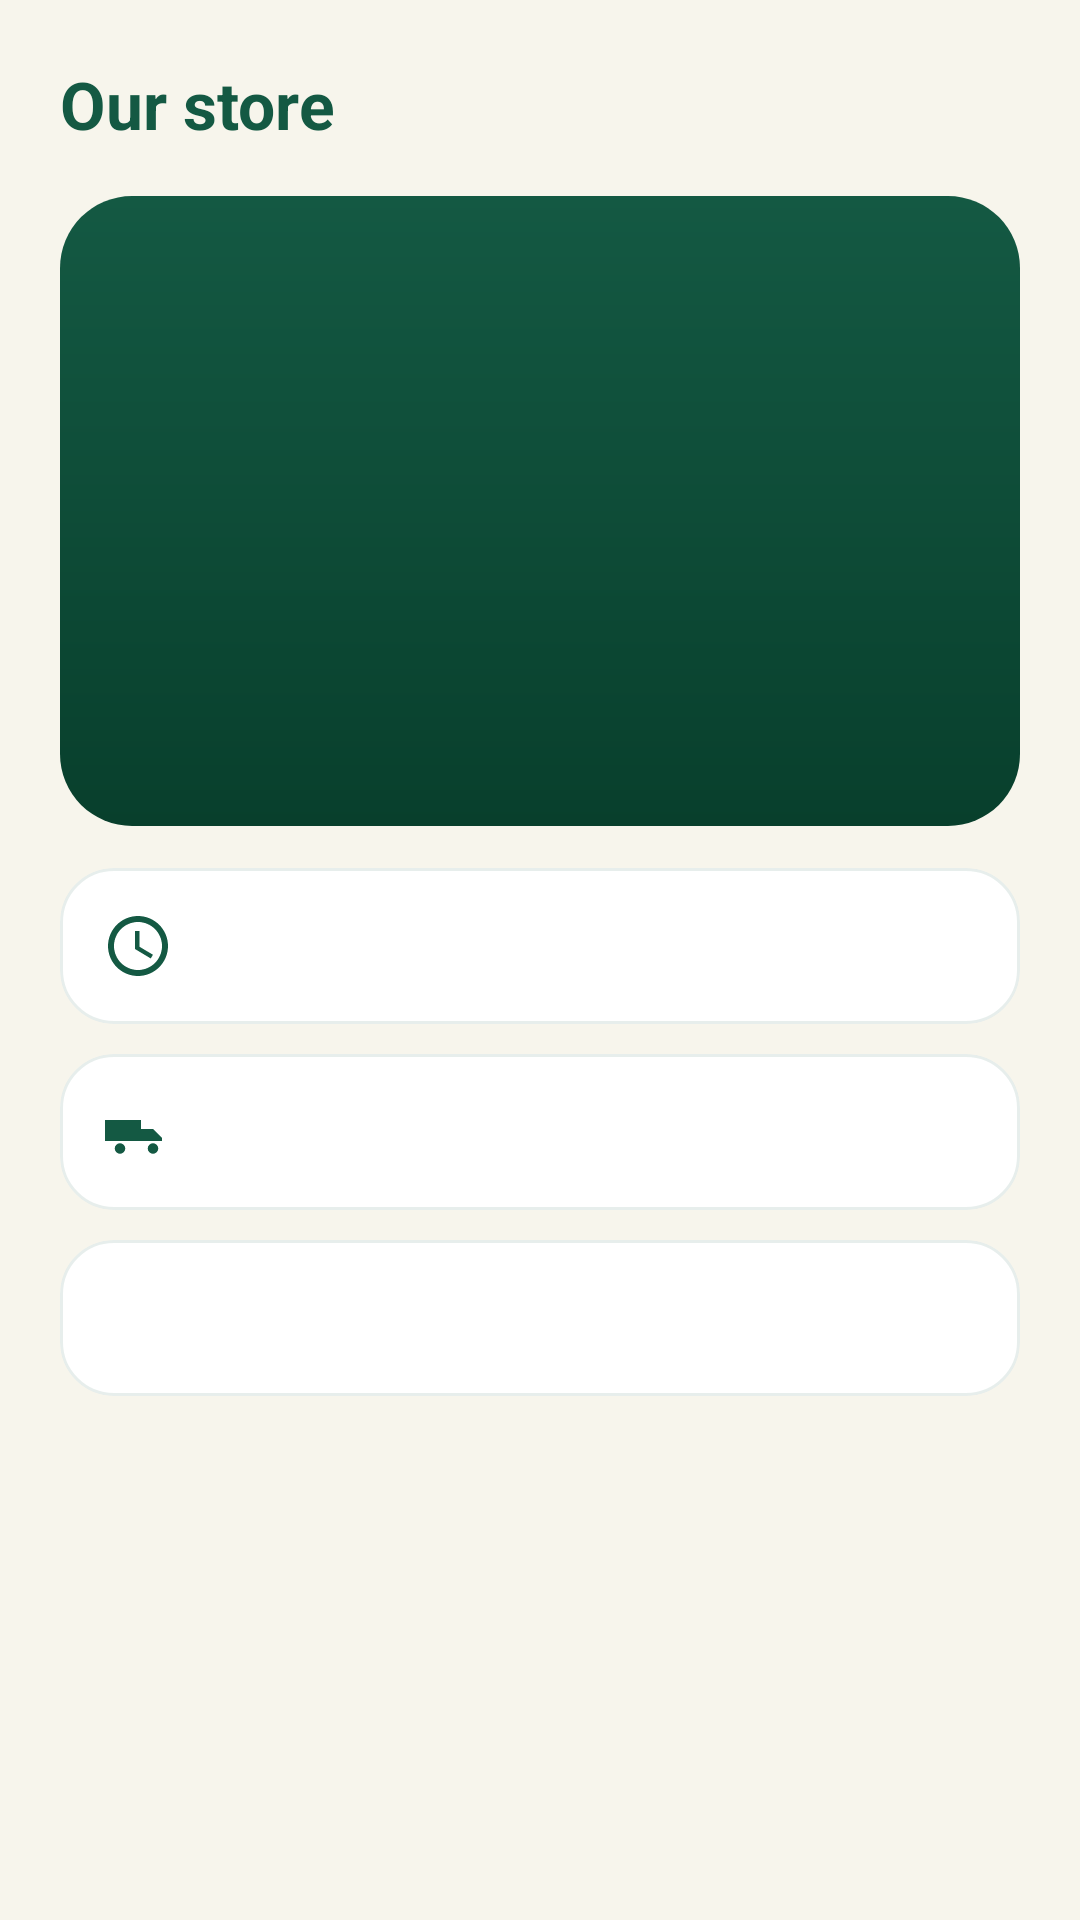

Where to tap for icons on this 1080w x 1920h app screen, as point (x, y):
schedule: point (138, 946)
truck: point (133, 1137)
